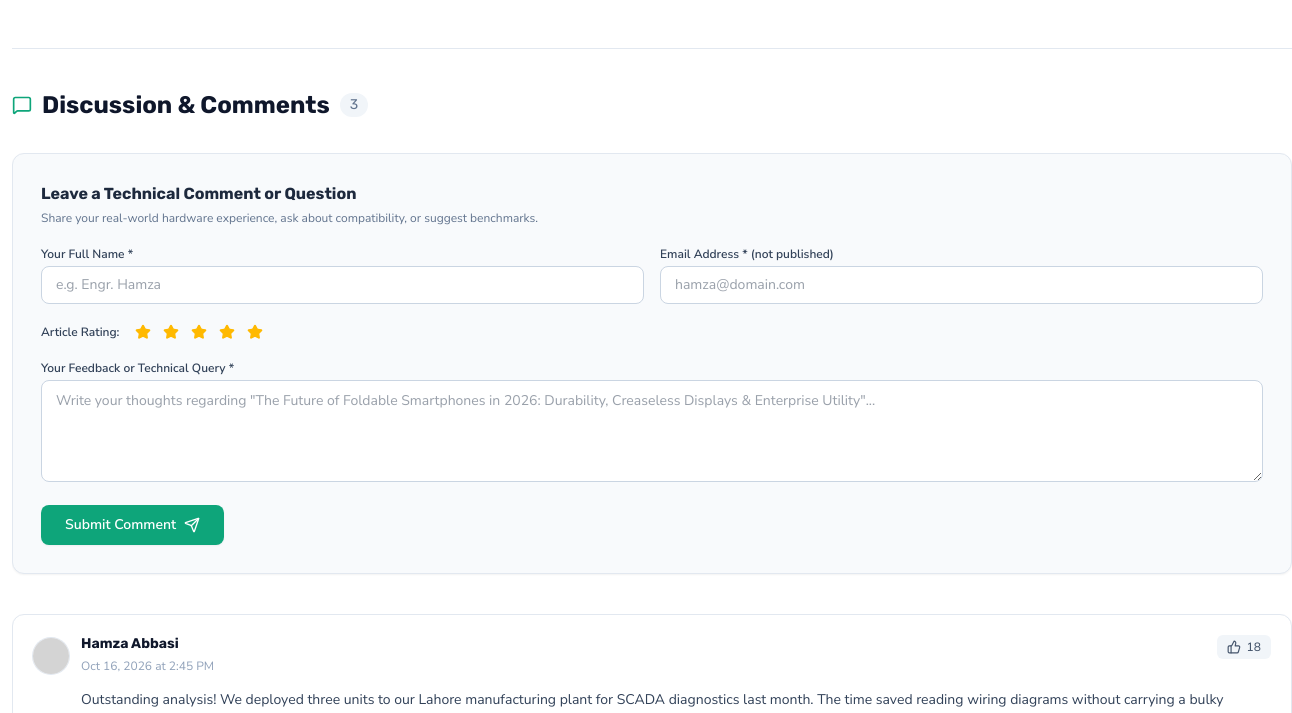
Core UI Components Unit Tests › CommentsSection Component › should allow submitting a new comment and render it immediately
The image size is (1292, 713).
Type "Engr. Bilal" into the field with placeholder "e.g. Engr. Hamza" at [342, 285], box x1=41 y1=266 x2=644 y2=304
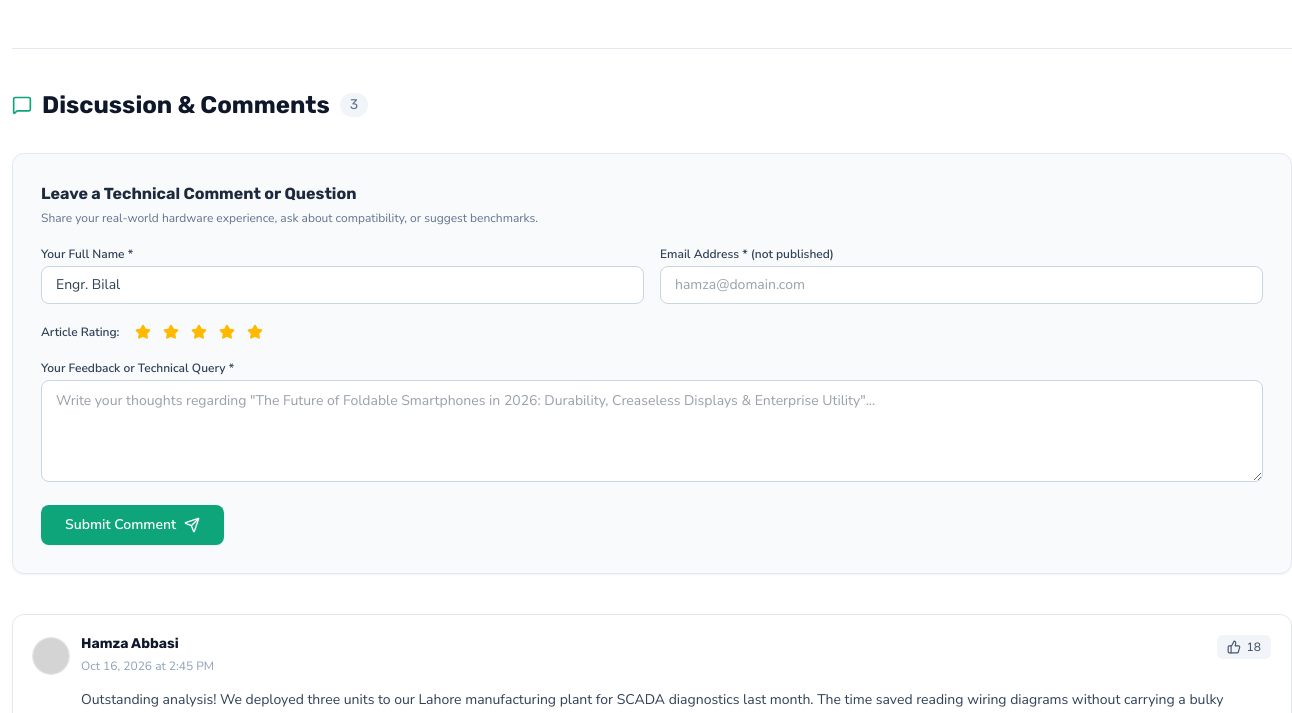
Type "bilal@example.com" into the field with placeholder "hamza@domain.com" at [962, 285], box x1=660 y1=266 x2=1263 y2=304
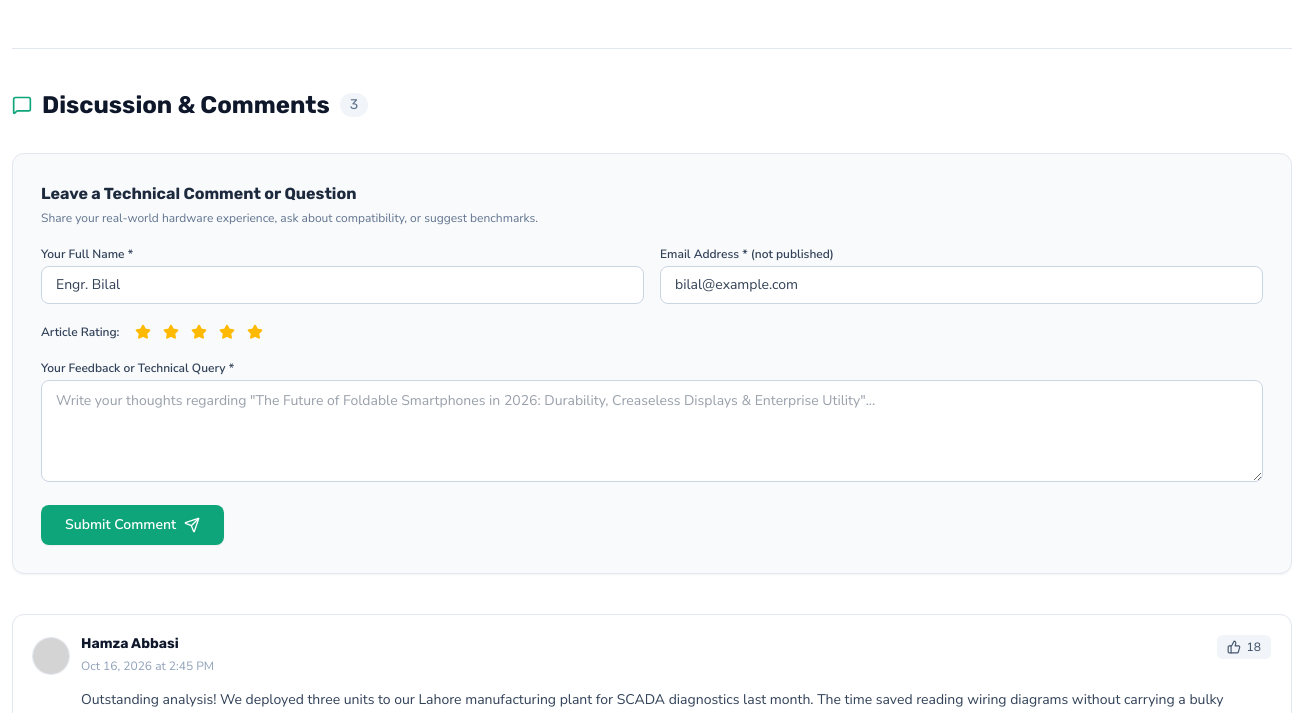
Replace the text in the text box with "Very thorough benchmarking of 3nm thermals." at [652, 431], box x1=41 y1=380 x2=1263 y2=482
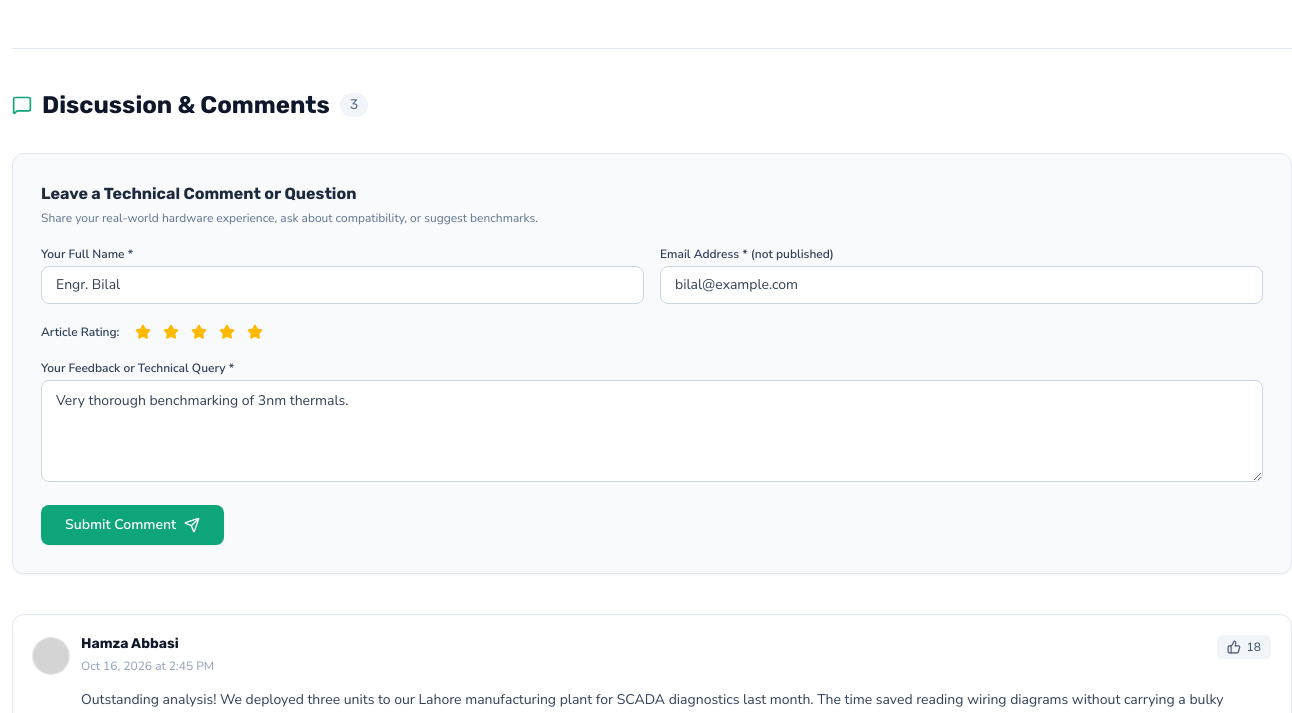
Click the button "Submit Comment" at [133, 525], box x1=41 y1=505 x2=224 y2=545
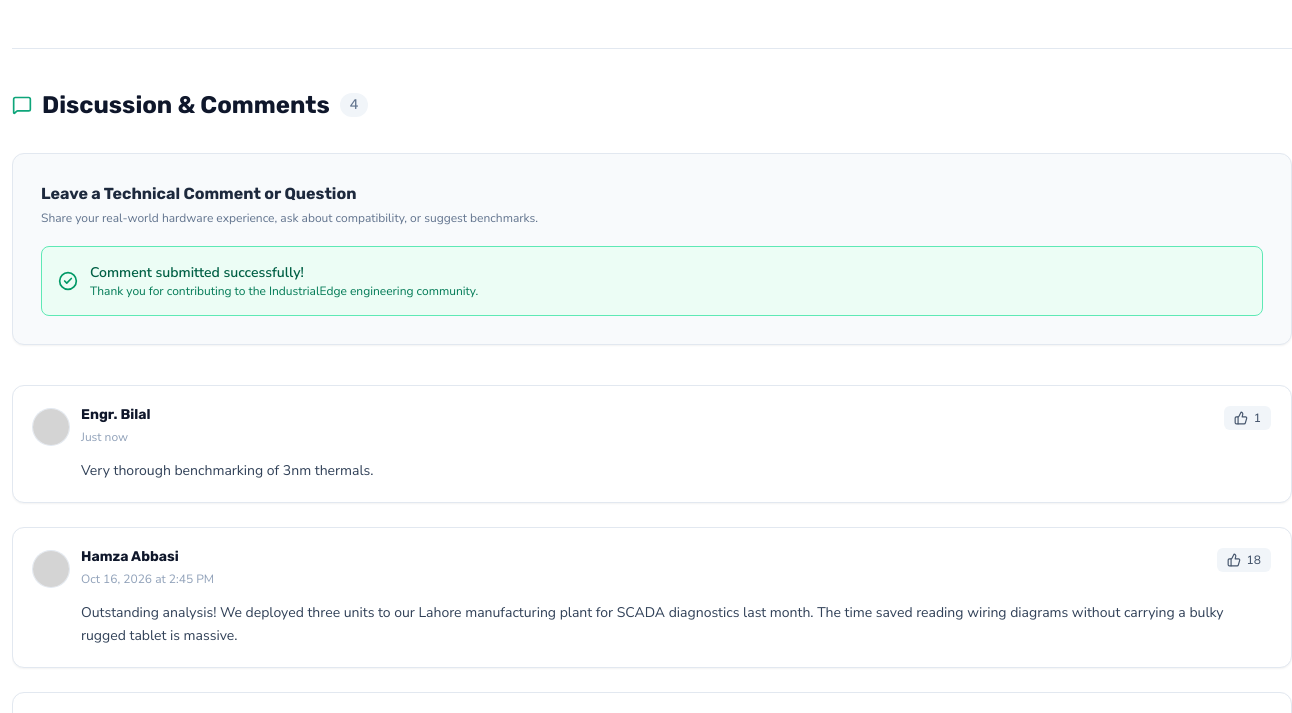
Result: the heading "Engr. Bilal" is shown at x1=81 y1=406 x2=150 y2=424
Result: the text "Very thorough benchmarking of 3nm thermals." is shown at x1=81 y1=460 x2=373 y2=480
